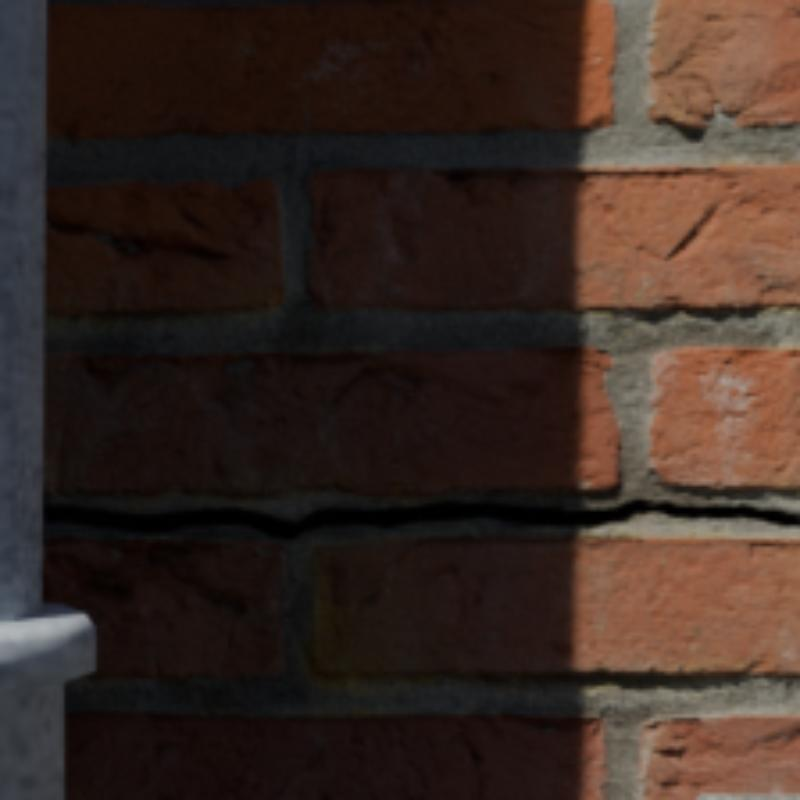pothole: (43, 500, 796, 536)
